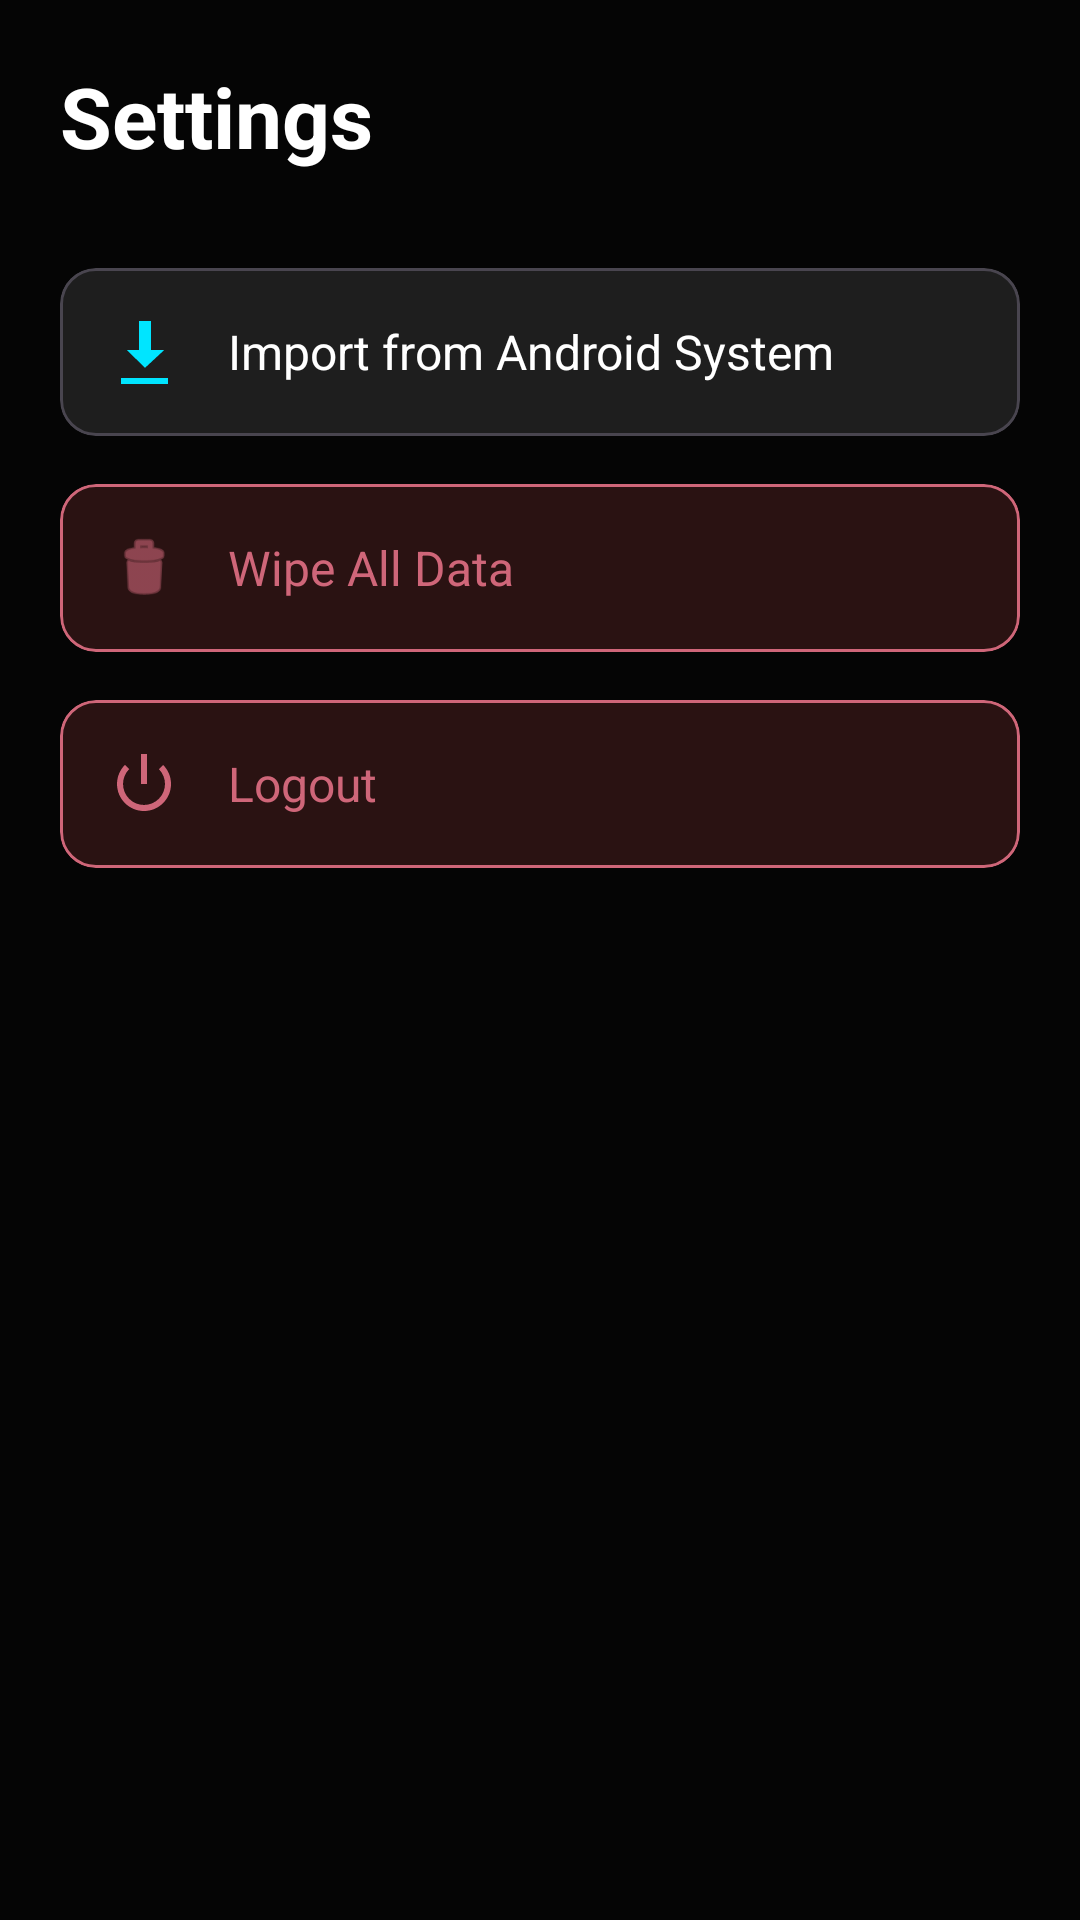

Icon bounding boxes for this 1080*1920 phone screenshot, format (left=x1, top=y1, right=x2, bottom=y2):
delete: (left=124, top=539, right=165, bottom=595)
download: (left=121, top=321, right=168, bottom=384)
lock power off: (left=117, top=754, right=171, bottom=811)
